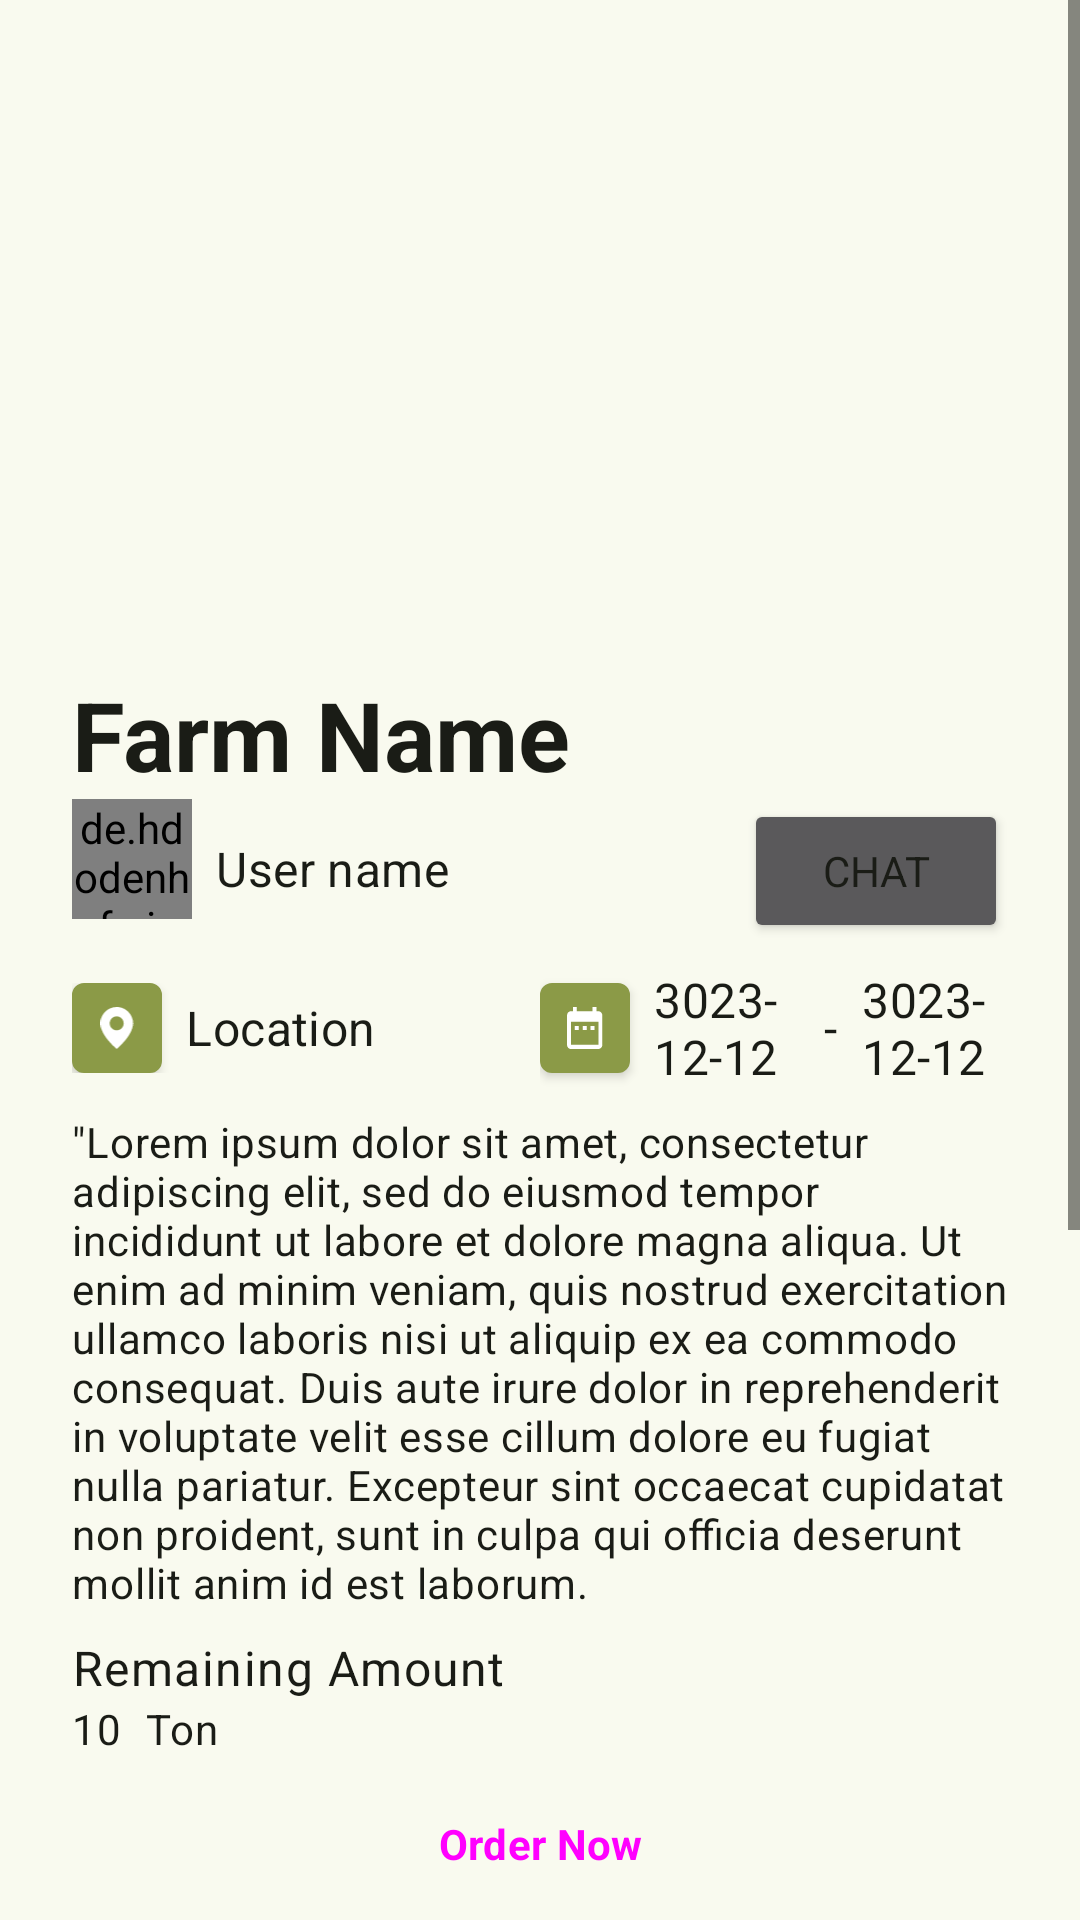

Screen size 1080×1920. Icon name, then its box in pixels as bbox(x1, y1, x2, y2):
date: bbox(540, 983, 630, 1073)
